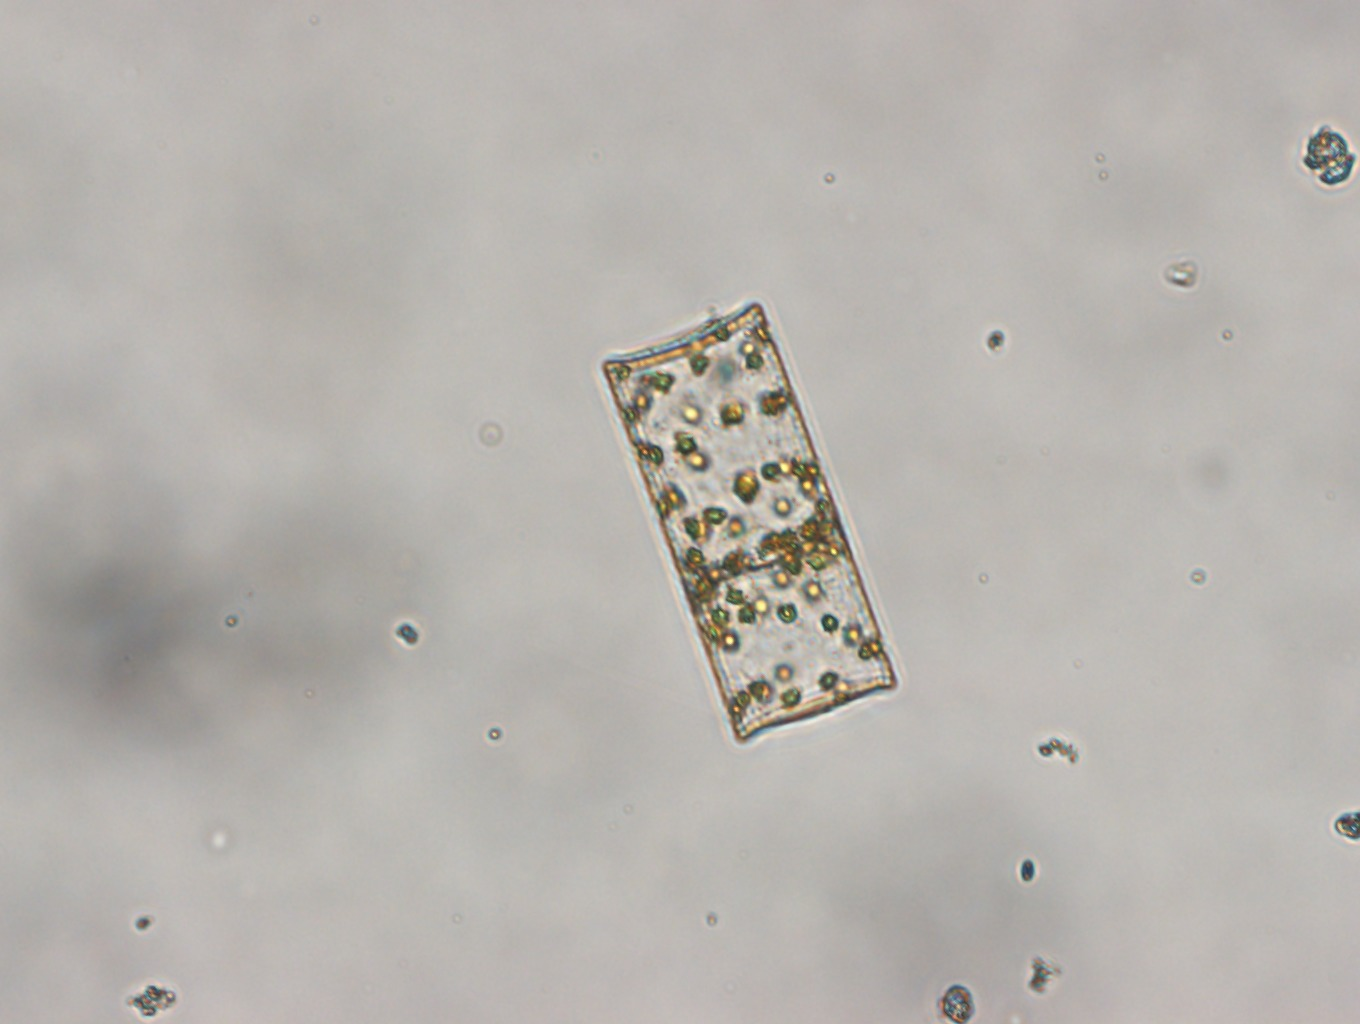guinardia flaccida: (603, 300, 900, 744)
